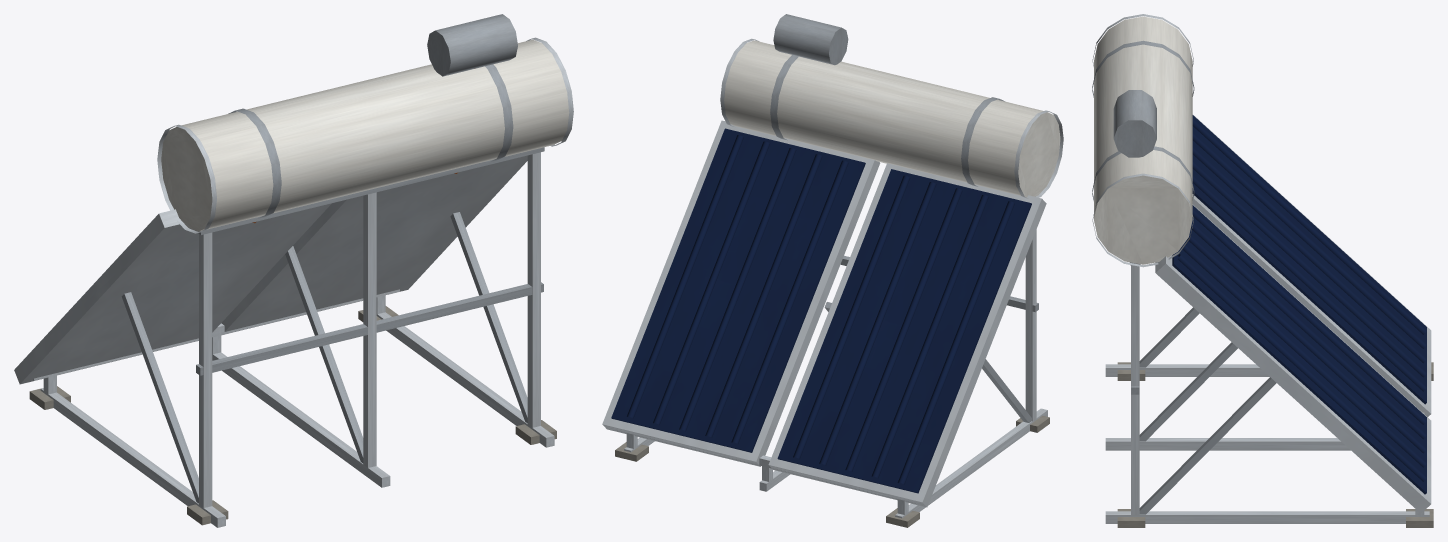
Rendered from FK_SolarHeater.fbx.
3 views of the same model, side by side, from view 1: azimuth 30°, elevation 25°; view 2: azimuth 150°, elevation 25°; view 3: azimuth 270°, elevation 25° (orthographic). The views are drawn at different scales.
Parts seen in each view (by area): view 1: FK_SolarHeater; view 2: FK_SolarHeater; view 3: FK_SolarHeater.
Boxes of the visible parts, left/top/right/bottom form: FK_SolarHeater: left=14, top=14, right=573, bottom=527; FK_SolarHeater: left=602, top=14, right=1063, bottom=527; FK_SolarHeater: left=1092, top=14, right=1433, bottom=527.
Size of the model in its own units: 2.08 by 2.17 by 1.73.
Materials: 1 (1 with a texture image).
